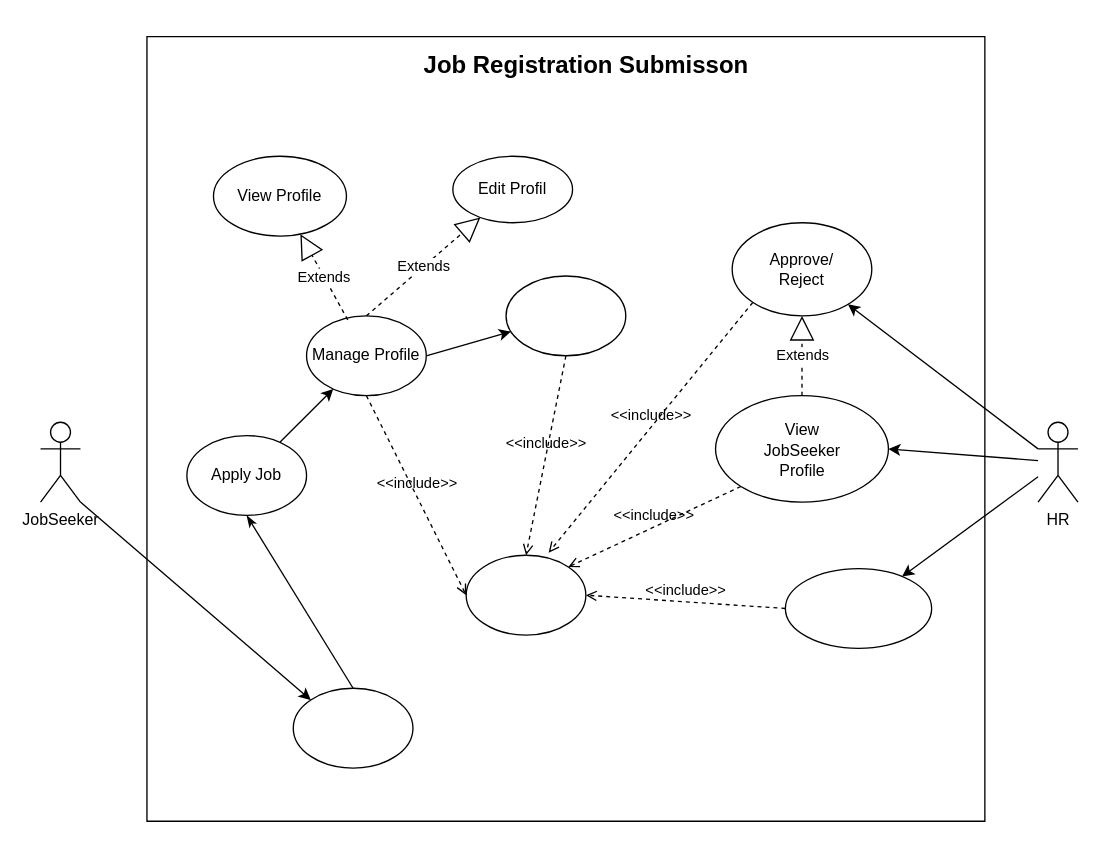
This 1101x845 diagram has some shape labels left out. The centre of each missing label's shape, as x and y in pixels:
"Login" belongs at point 525,594.
"Manage Joblist" belongs at point 858,607.
"Register" belongs at point 565,315.
"View Job" belongs at point 352,727.
